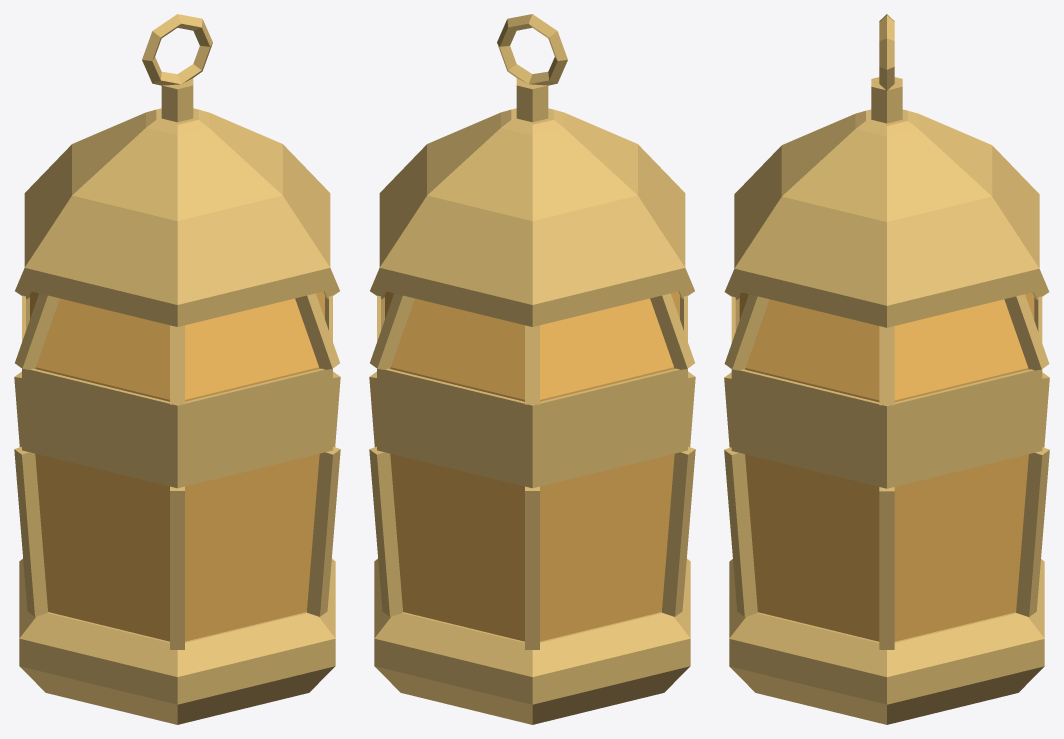
File: lantern.glb
The picture shows the model from 3 angles, left to right: view 1: azimuth 30°, elevation 25°; view 2: azimuth 150°, elevation 25°; view 3: azimuth 270°, elevation 25°; orthographic projection.
Parts seen in each view (by area): view 1: lantern; view 2: lantern; view 3: lantern.
Boxes of the visible parts, <box> form: lantern: <box>14,14,340,724</box>; lantern: <box>369,14,695,724</box>; lantern: <box>724,14,1049,724</box>.
Size of the model in its own units: 0.121 by 0.2345 by 0.1073.
